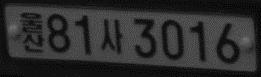0: (160, 18, 184, 61)
1: (187, 19, 207, 63), (73, 13, 92, 57)
3: (132, 16, 157, 59)
6: (215, 22, 241, 64)
8: (47, 12, 71, 53)
사: (99, 16, 124, 55)
울산_V: (18, 10, 45, 54)
